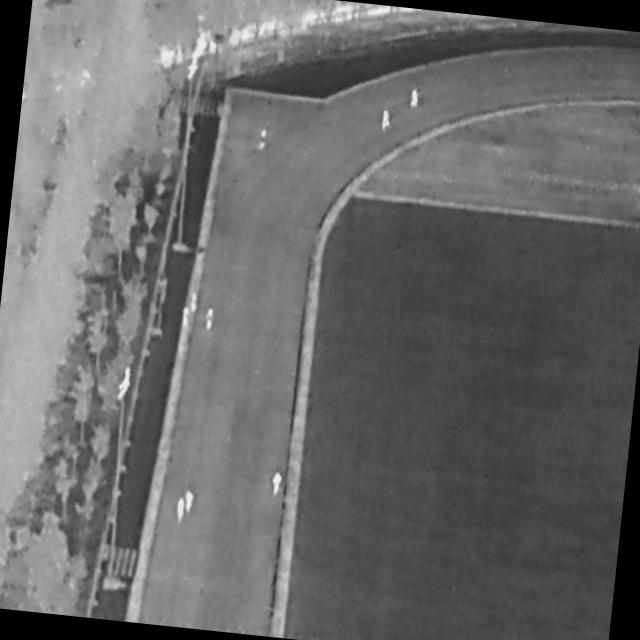person: (203, 306, 216, 333), (272, 471, 284, 497), (175, 496, 186, 524), (381, 109, 392, 134), (185, 490, 195, 515), (410, 88, 421, 110), (182, 306, 192, 329), (259, 129, 268, 152), (190, 291, 199, 314)
